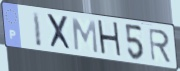5: (124, 22, 146, 63)
H: (95, 18, 124, 60)
I: (31, 10, 43, 48)
M: (71, 17, 100, 56)
R: (147, 27, 173, 64)
X: (45, 12, 74, 53)
